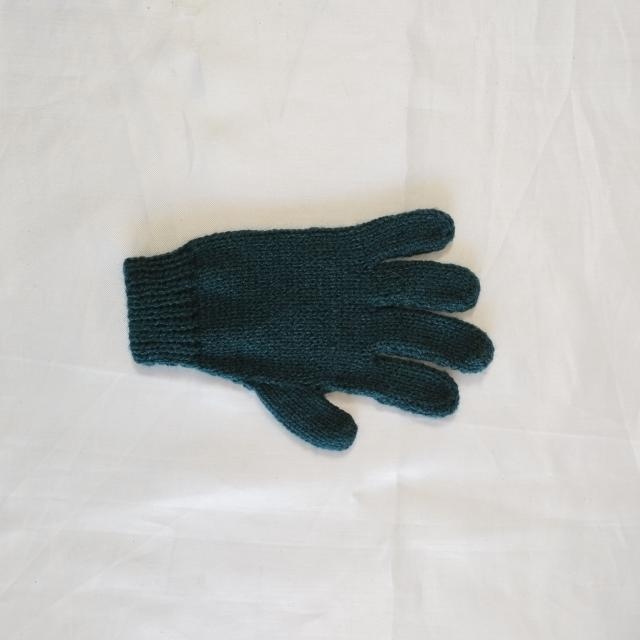Guante: (122, 206, 494, 452)
